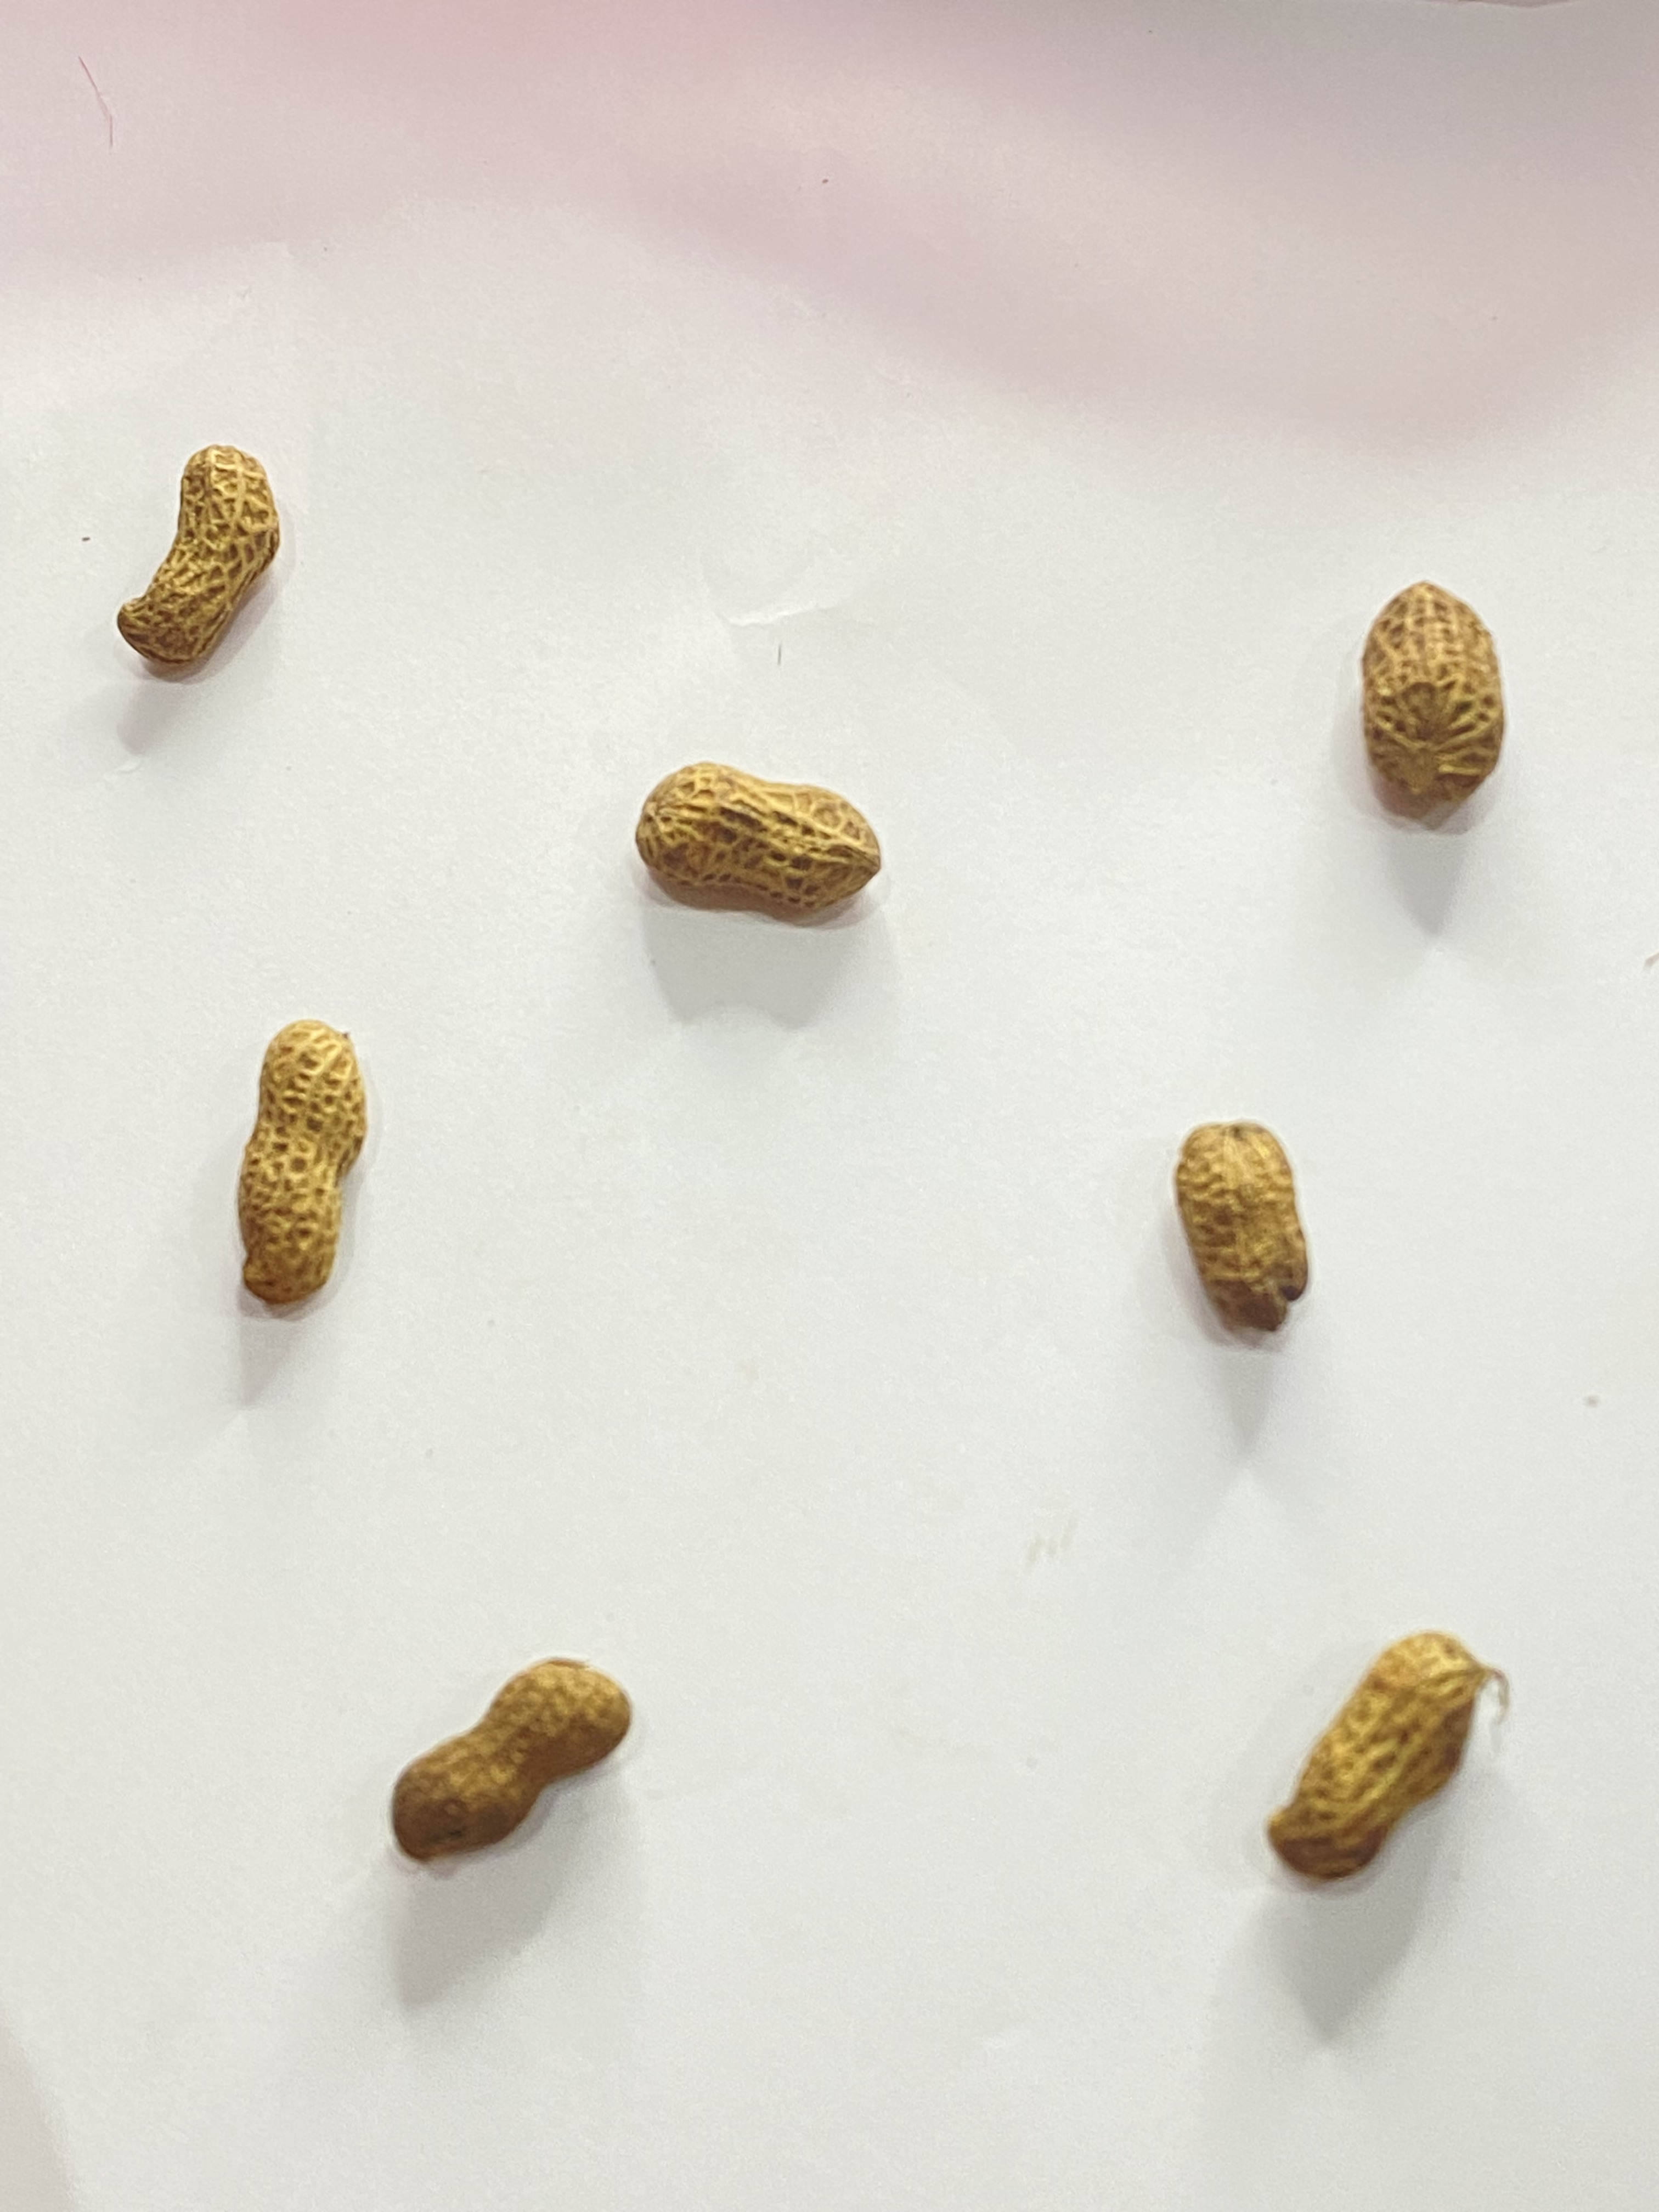kacang1: (1098, 1082, 1380, 1386), (1352, 575, 1520, 824)
kacang2: (1234, 1597, 1551, 1895), (362, 1653, 660, 1888), (113, 399, 328, 709), (587, 752, 924, 948), (190, 1003, 385, 1325)
